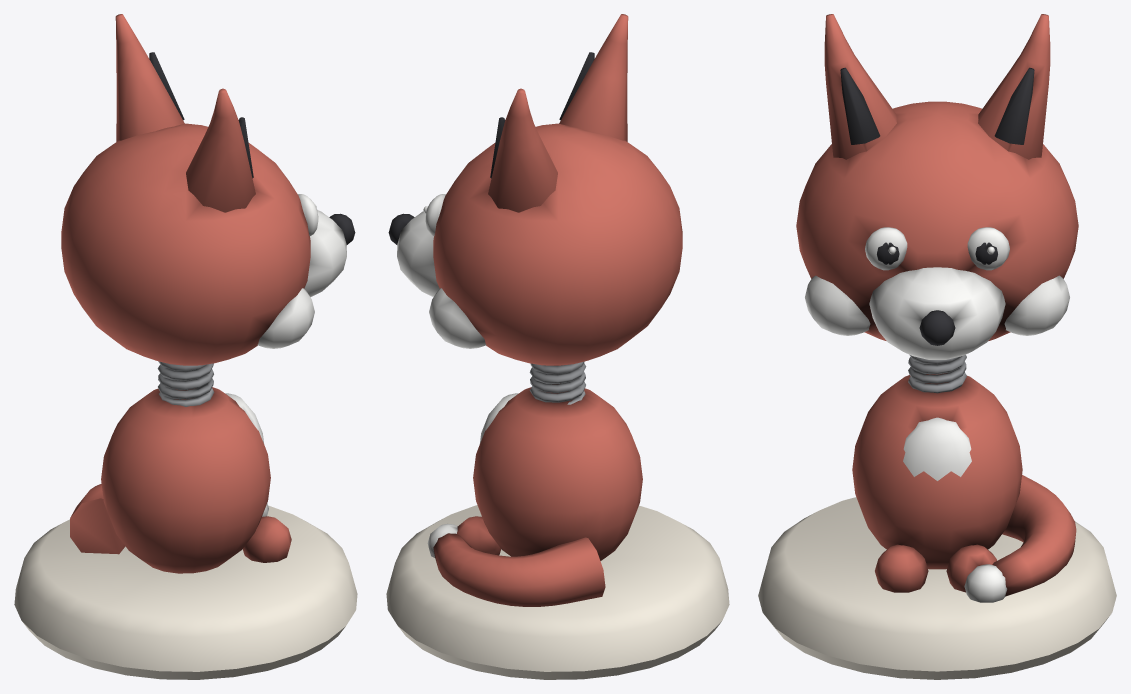
File: nd_bobble_1.glb
3 views of the same model, side by side, from view 1: azimuth 30°, elevation 25°; view 2: azimuth 150°, elevation 25°; view 3: azimuth 270°, elevation 25° (orthographic). The views are drawn at different scales.
Visible parts, largest first — view 1: PART, N_head; view 2: PART, N_head; view 3: PART, N_head.
Boxes of the visible parts, x1,y1,x2,y2 form: PART: (14, 361, 357, 679); N_head: (61, 14, 355, 365); PART: (386, 361, 729, 679); N_head: (388, 14, 682, 365); PART: (758, 355, 1116, 679); N_head: (796, 14, 1078, 359).
Size of the model in its own units: 0.085 by 0.1444 by 0.08.
